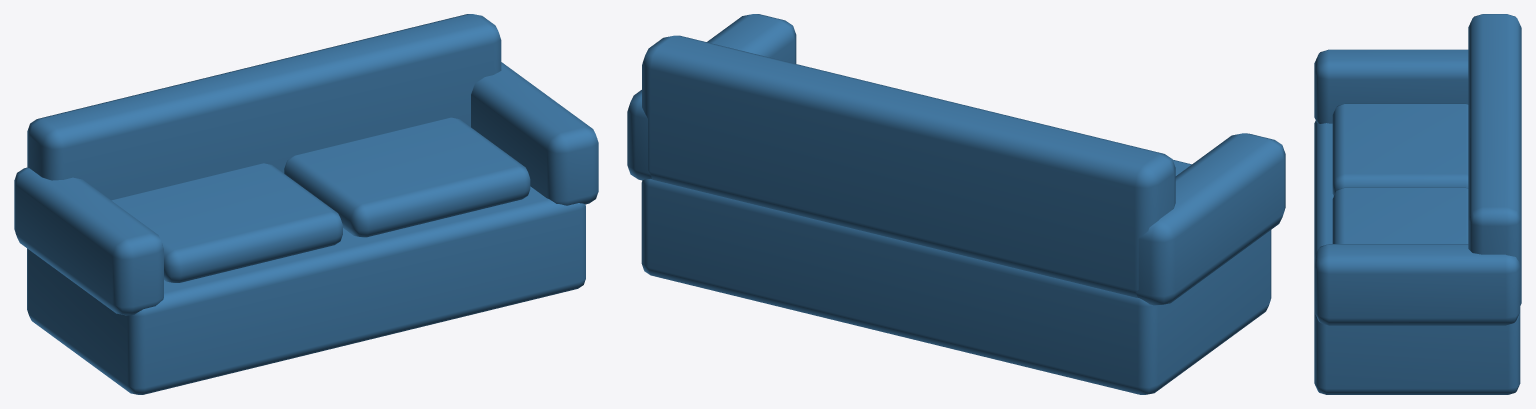
File: Sofa.fbx
3 views of the same model, side by side, from view 1: azimuth 30°, elevation 25°; view 2: azimuth 150°, elevation 25°; view 3: azimuth 270°, elevation 25° (orthographic). The views are drawn at different scales.
Parts seen in each view (by area): view 1: Base, Back.004, Cushion.001, Cushion, Arm.002, Arm.003; view 2: Back.004, Base, Arm.002, Arm.003; view 3: Base, Arm.003, Back.004, Cushion, Arm.002, Cushion.001.
Boxes of the visible parts, x1,y1,x2,y2 form: Base: (27,186,585,394); Back.004: (27,14,501,200); Cushion.001: (284,117,530,237); Cushion: (111,163,342,282); Arm.002: (14,167,163,315); Arm.003: (471,62,598,205); Back.004: (642,35,1175,297); Base: (641,179,1271,394); Arm.002: (1136,133,1285,305); Arm.003: (627,14,796,180); Base: (1314,120,1520,394); Arm.003: (1314,244,1520,325); Back.004: (1468,14,1521,305); Cushion: (1332,103,1468,195); Arm.002: (1314,49,1468,123); Cushion.001: (1332,187,1468,243).
Bounding box in the file's own units: 2.12 × 0.85 × 0.855.
